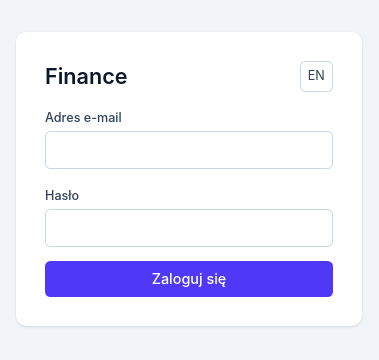
Scenario: logging in and out › says the server is down when the login does not reach it
Step 1. Type "user@example.com" into the field labelled "Adres e-mail" → (189, 150), box top-left (45, 131), bottom-right (333, 169)
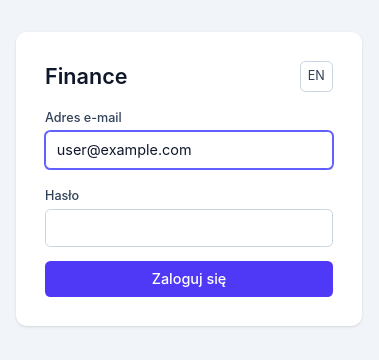
Step 2. Type "secret" into the password field labelled "Hasło" → (189, 228), box top-left (45, 209), bottom-right (333, 247)
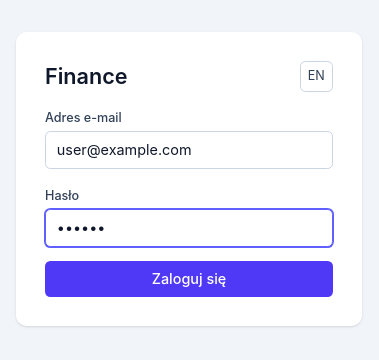
Step 3. Click the button "Zaloguj się" → (189, 279), box top-left (45, 261), bottom-right (333, 297)
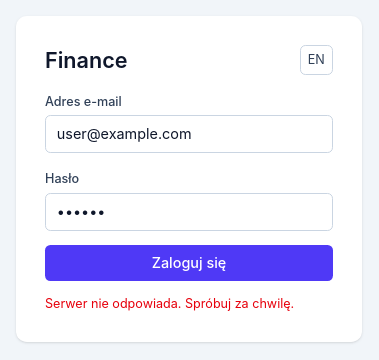
Expected: the button "Zaloguj się" is enabled, top-left (45, 245), bottom-right (333, 281)
Expected: the message reads "Serwer nie odpowiada. Spróbuj za chwilę.", top-left (45, 296), bottom-right (294, 311)
